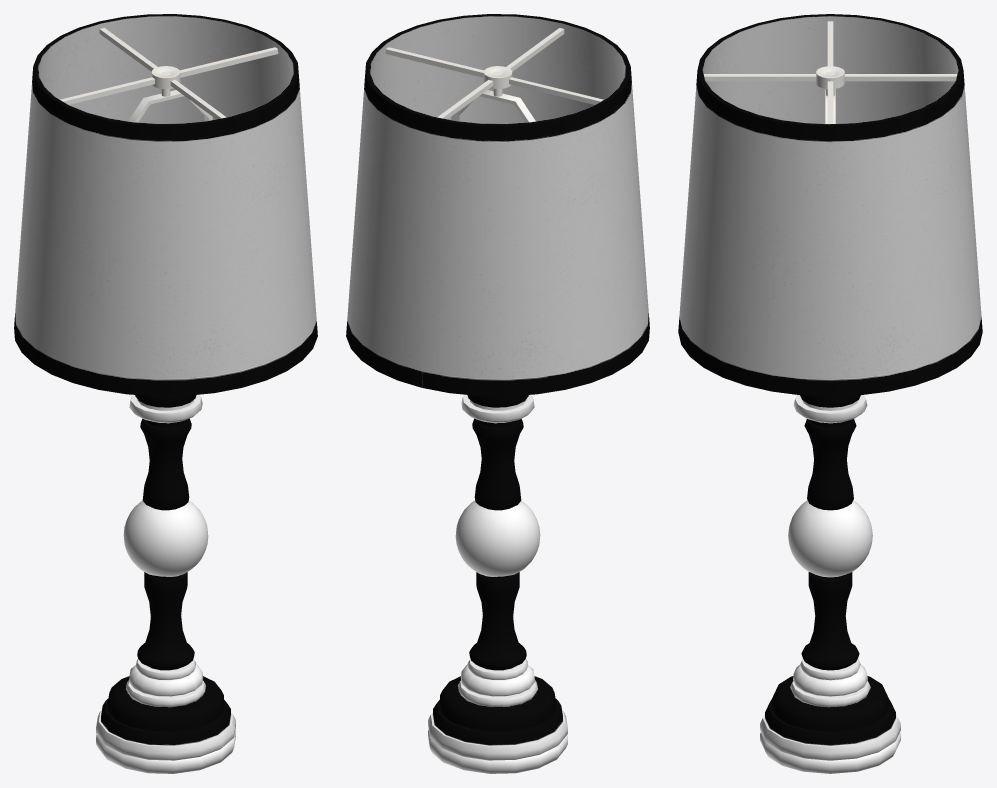
3 views of the same model, side by side, from view 1: azimuth 30°, elevation 25°; view 2: azimuth 150°, elevation 25°; view 3: azimuth 270°, elevation 25° (orthographic).
Visible parts, largest first — view 1: #LMP0004_Deco_Bakelite_BW; view 2: #LMP0004_Deco_Bakelite_BW; view 3: #LMP0004_Deco_Bakelite_BW.
Boxes of the visible parts, bbox=[...] form: #LMP0004_Deco_Bakelite_BW: bbox=[14, 14, 317, 773]; #LMP0004_Deco_Bakelite_BW: bbox=[346, 14, 649, 773]; #LMP0004_Deco_Bakelite_BW: bbox=[678, 14, 982, 773].
Bounding box in the file's own units: 0.3457 × 0.8484 × 0.3457.
1 material, 1 textured.
